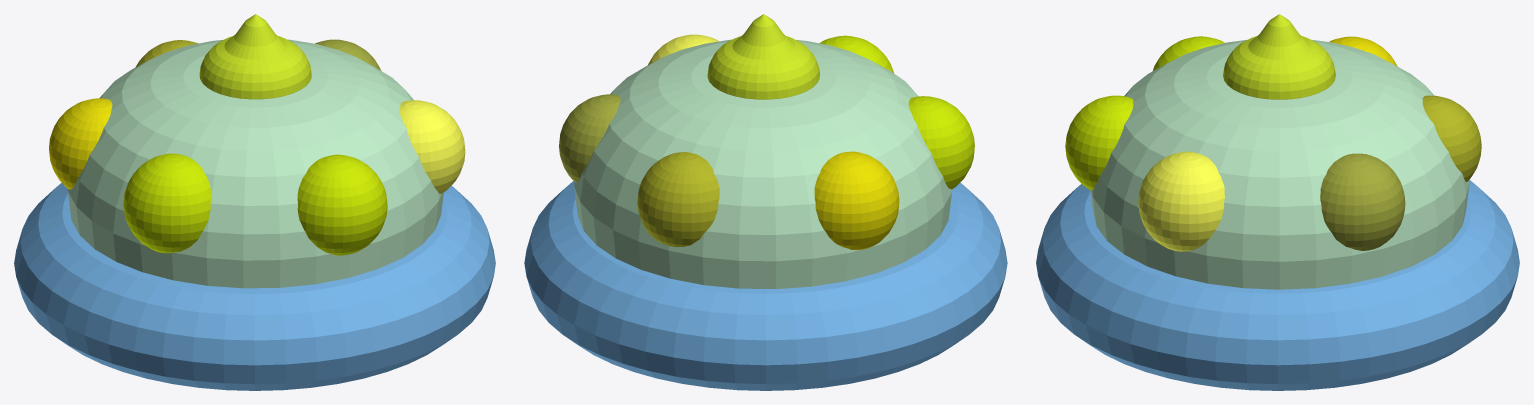
The model's file is ufo.glb.
3 renders of one model, left to right at view 1: azimuth 30°, elevation 25°; view 2: azimuth 150°, elevation 25°; view 3: azimuth 270°, elevation 25°, orthographic.
Visible parts, largest first — view 1: Sphere, Torus, Sphere.003, Sphere.007, Sphere.002, Sphere.004, Sphere.008, Sphere.006, Sphere.005; view 2: Sphere, Torus, Sphere.008, Sphere.002, Sphere.005, Sphere.007, Sphere.006, Sphere.003, Sphere.004; view 3: Sphere, Torus, Sphere.004, Sphere.006, Sphere.002, Sphere.003, Sphere.005, Sphere.007, Sphere.008.
Boxes of the visible parts, <box> form: Sphere: <box>67,39,443,288</box>; Torus: <box>14,182,495,390</box>; Sphere.003: <box>297,154,387,255</box>; Sphere.007: <box>123,153,211,253</box>; Sphere.002: <box>199,14,311,99</box>; Sphere.004: <box>399,100,465,193</box>; Sphere.008: <box>49,98,112,189</box>; Sphere.006: <box>315,39,381,70</box>; Sphere.005: <box>135,40,198,67</box>; Sphere: <box>574,39,952,289</box>; Torus: <box>524,181,1007,390</box>; Sphere.008: <box>814,151,899,250</box>; Sphere.002: <box>707,14,819,99</box>; Sphere.005: <box>637,152,719,247</box>; Sphere.007: <box>908,96,974,189</box>; Sphere.006: <box>559,94,620,182</box>; Sphere.003: <box>819,35,893,73</box>; Sphere.004: <box>648,34,718,64</box>; Sphere: <box>1090,40,1469,289</box>; Torus: <box>1036,180,1519,390</box>; Sphere.004: <box>1138,151,1224,251</box>; Sphere.006: <box>1320,153,1405,250</box>; Sphere.002: <box>1223,14,1335,99</box>; Sphere.003: <box>1065,95,1133,190</box>; Sphere.005: <box>1422,95,1481,181</box>; Sphere.007: <box>1153,36,1224,70</box>; Sphere.008: <box>1329,36,1397,66</box>.
Bounding box in the file's own units: 9.47 × 7.67 × 9.47.
